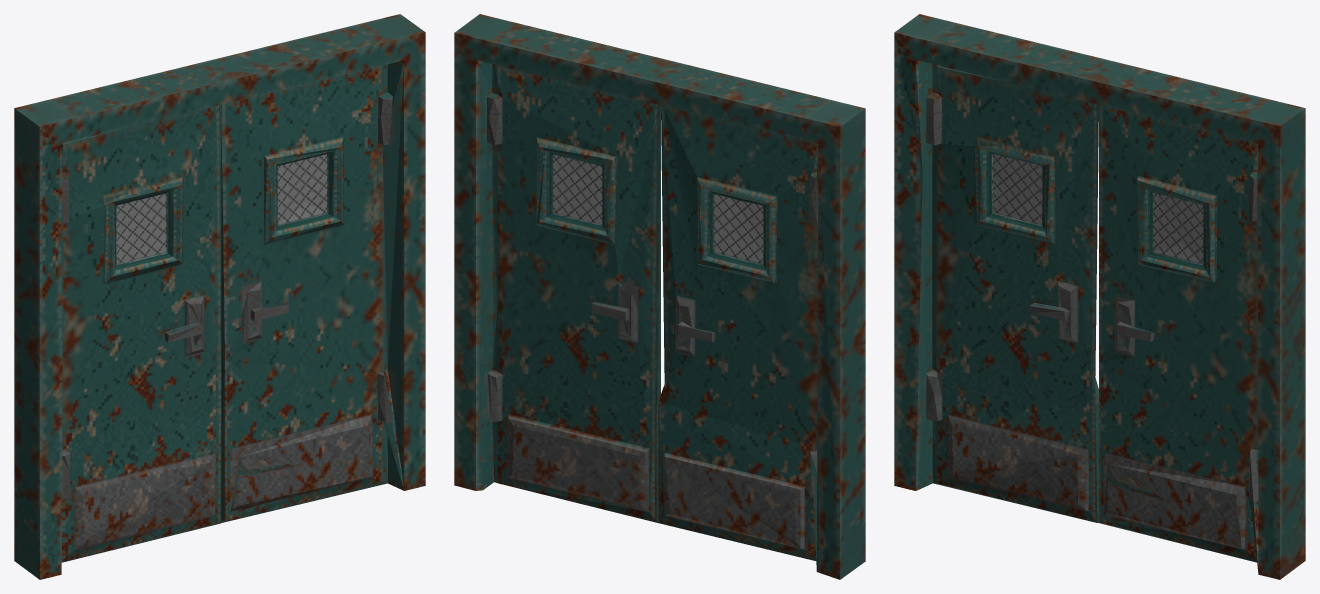
The model's file is Meshy_AI_model.glb.
3 views of the same model, side by side, from view 1: azimuth 30°, elevation 25°; view 2: azimuth 150°, elevation 25°; view 3: azimuth 330°, elevation 25° (orthographic).
Parts seen in each view (by area): view 1: output_unwrapped; view 2: output_unwrapped; view 3: output_unwrapped.
Part boxes in pixels (box(x1,y1,x2,y2)): output_unwrapped: box(14, 14, 425, 579); output_unwrapped: box(454, 14, 865, 579); output_unwrapped: box(894, 14, 1305, 579).
Bounding box in the file's own units: 1.7 × 1.9 × 0.1962.
1 material, 1 textured.
